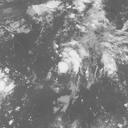cyclone: (46, 41, 84, 83)
